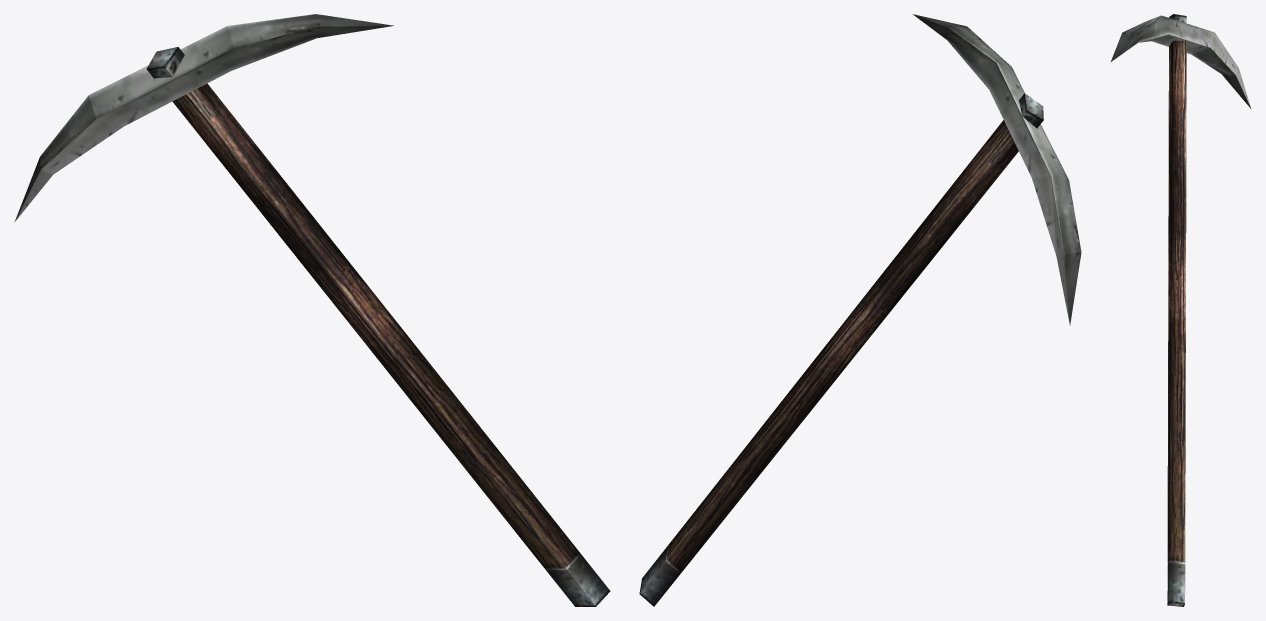
File: ITMW_020_2H_PICKAXE_01.glb
3 views of the same model, side by side, from view 1: azimuth 30°, elevation 25°; view 2: azimuth 150°, elevation 25°; view 3: azimuth 270°, elevation 25° (orthographic). The views are drawn at different scales.
Visible parts, largest first — view 1: ITMW_020_2H_PICKAXE_01; view 2: ITMW_020_2H_PICKAXE_01; view 3: ITMW_020_2H_PICKAXE_01.
Part boxes in pixels (bbox=[...]): ITMW_020_2H_PICKAXE_01: bbox=[14, 14, 610, 606]; ITMW_020_2H_PICKAXE_01: bbox=[639, 14, 1081, 606]; ITMW_020_2H_PICKAXE_01: bbox=[1110, 14, 1251, 606].
Size of the model in its own units: 0.6604 by 0.8122 by 0.2188.
2 materials, 2 textured.
